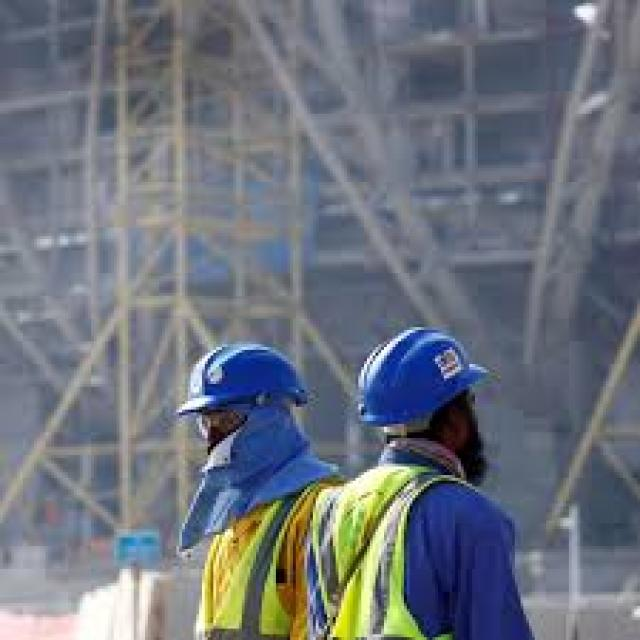Reflective-Jacket: (310, 458, 535, 640), (182, 466, 347, 640)
Safety-Helmet: (344, 318, 504, 441), (165, 330, 324, 429)
